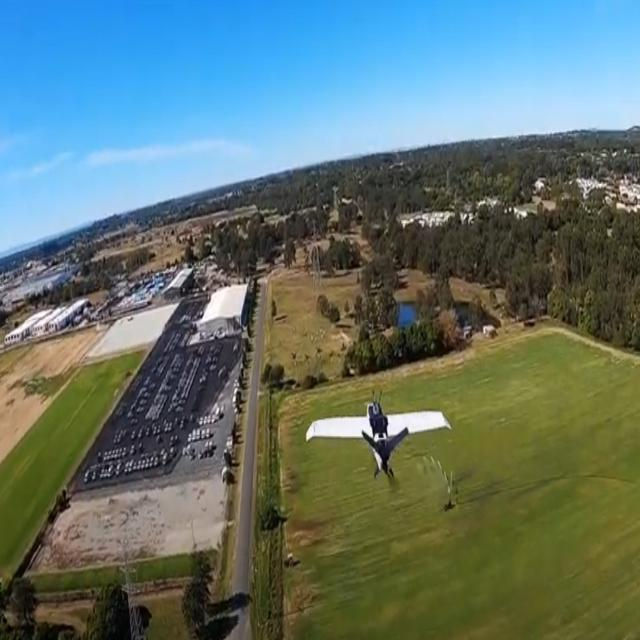iha: (306, 418, 452, 449)
